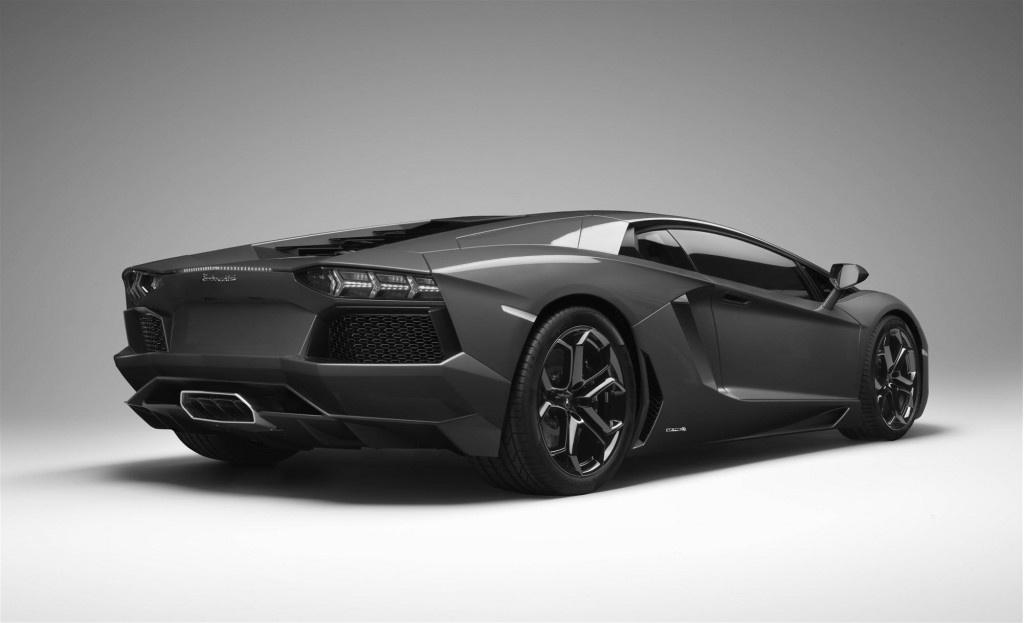car: (111, 209, 934, 501)
